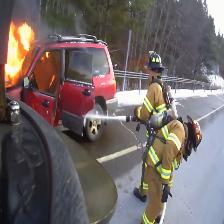fire: (5, 18, 59, 111)
